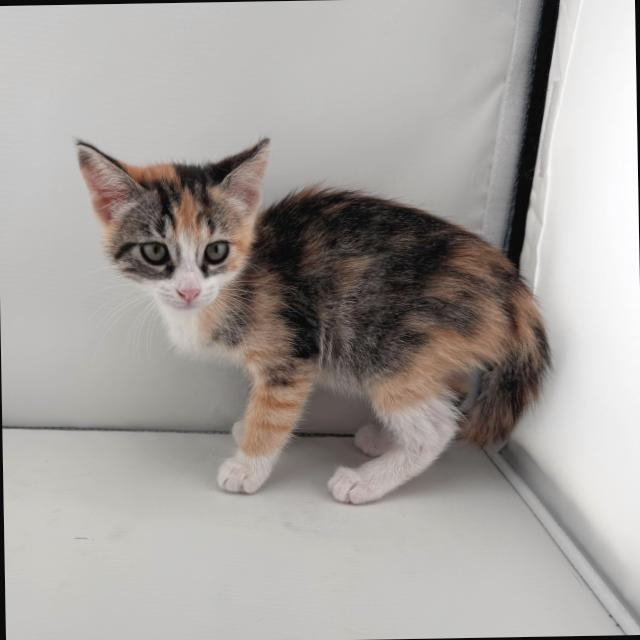calico_cat: (70, 126, 278, 320)
